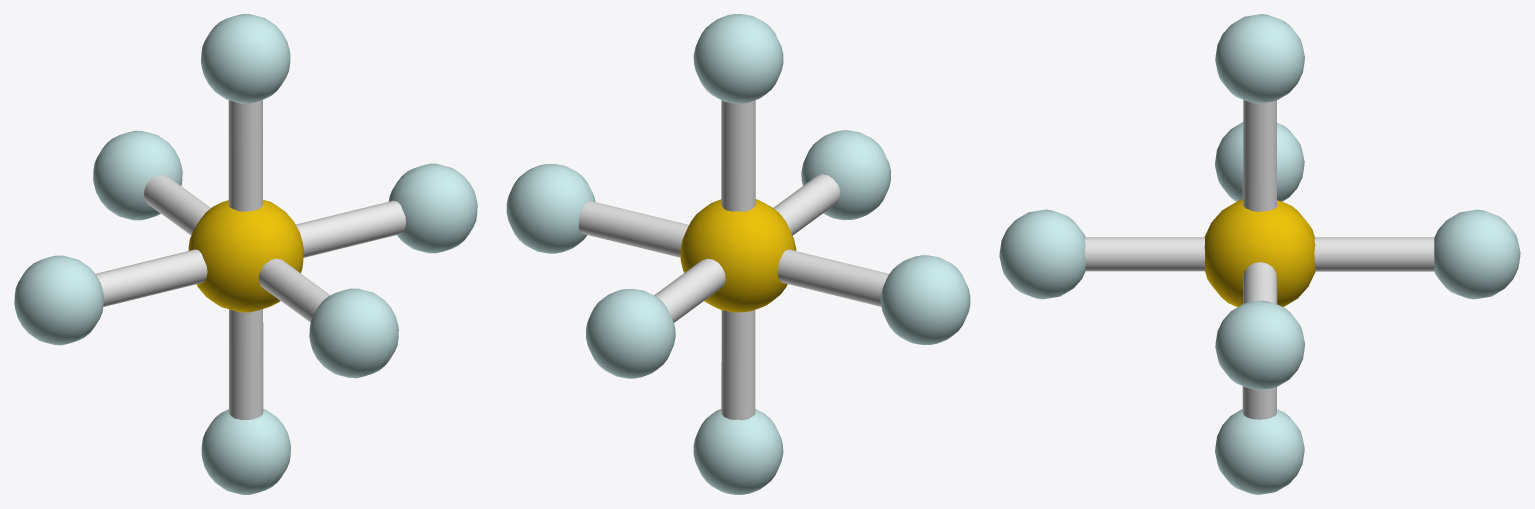
File: SeF6.fbx
3 renders of one model, left to right at view 1: azimuth 30°, elevation 25°; view 2: azimuth 150°, elevation 25°; view 3: azimuth 270°, elevation 25°, orthographic.
Visible parts, largest first — view 1: Selenium; view 2: Selenium; view 3: Selenium.
Boxes of the visible parts, <box> form: Selenium: <box>14,14,477,494</box>; Selenium: <box>506,14,970,494</box>; Selenium: <box>999,14,1520,494</box>.
Bounding box in the file's own units: 4.26 × 4.25 × 4.26.
